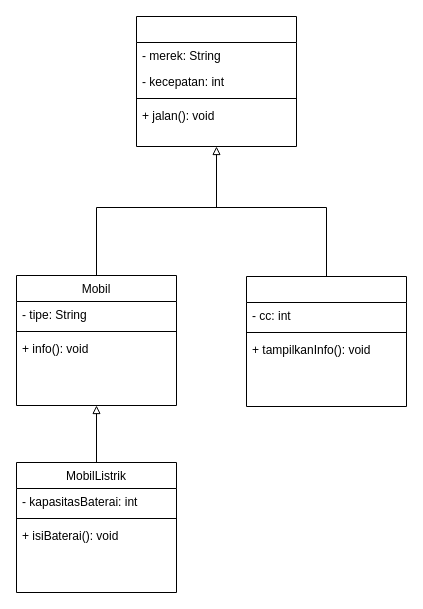
This 423x609 diagram has some shape labels left out. The box of each missing label's shape, as (x1, y1, x2, y2) in pixels:
Kendaraan: (136, 16, 296, 146)
Motor: (246, 276, 406, 406)
